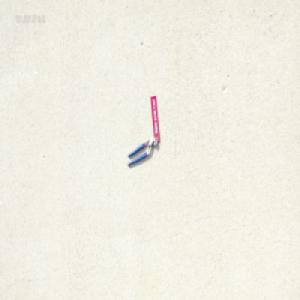Label: (149, 96, 160, 144)
Pliers: (127, 136, 158, 168)
